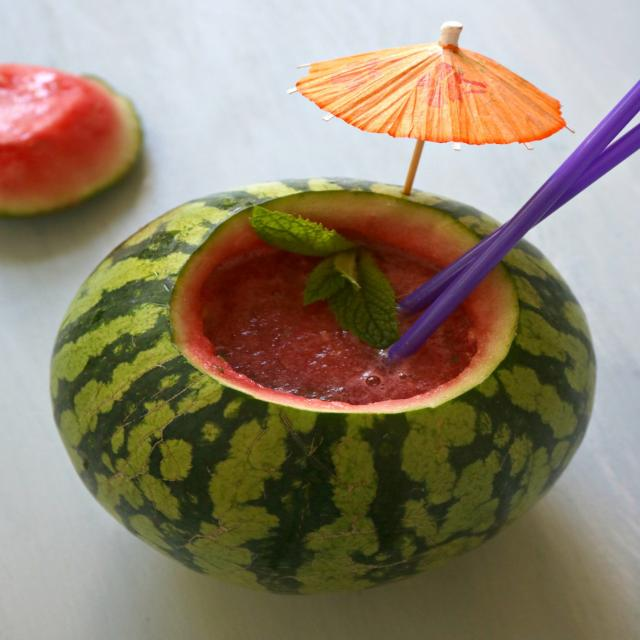watermelon: (54, 179, 595, 593)
